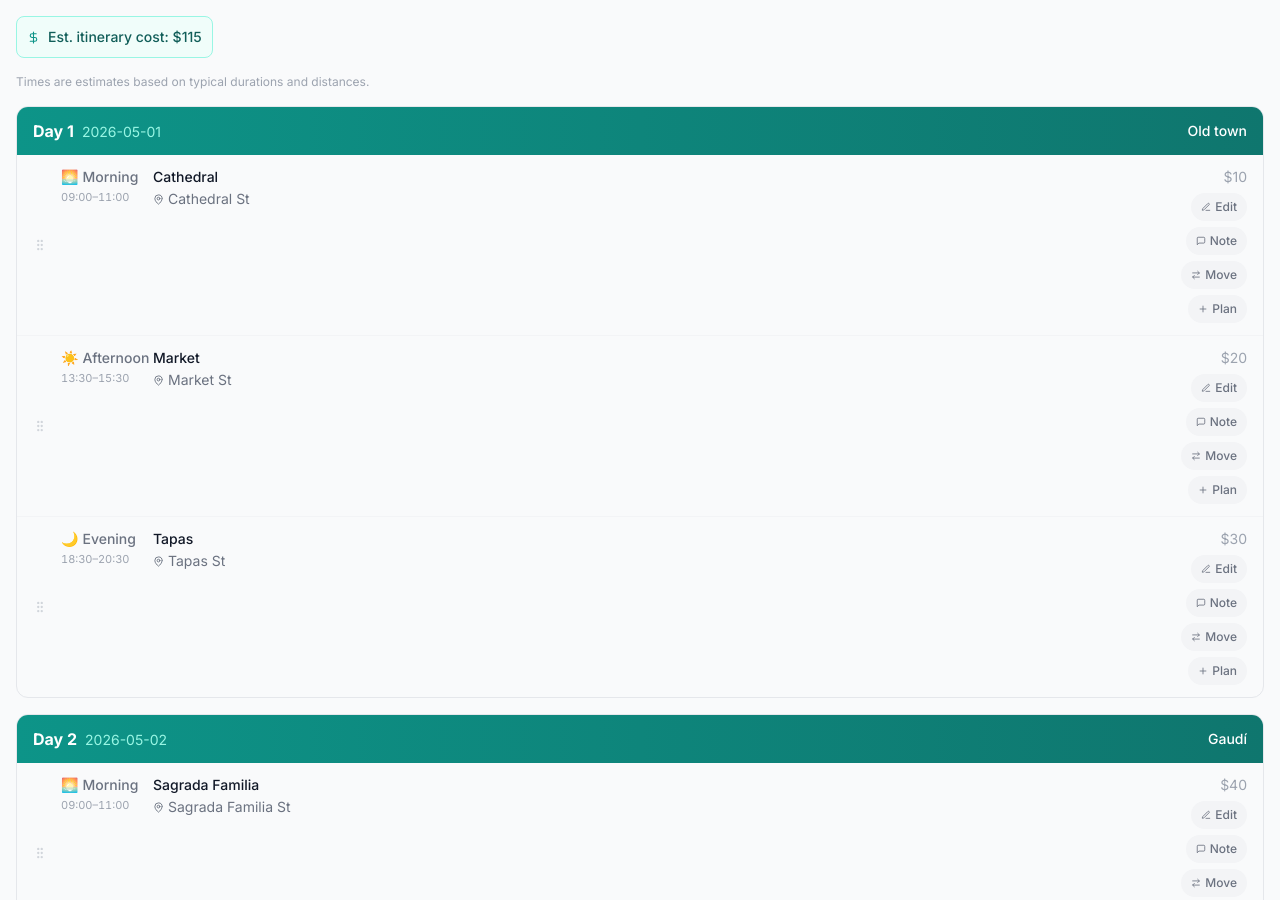
Test: ItinerarySection › exposes day headings as labelled groups, a labelled Move button and a group toolbar
Click the 2nd button "Move": [1214, 456] box [1181,442,1247,470]
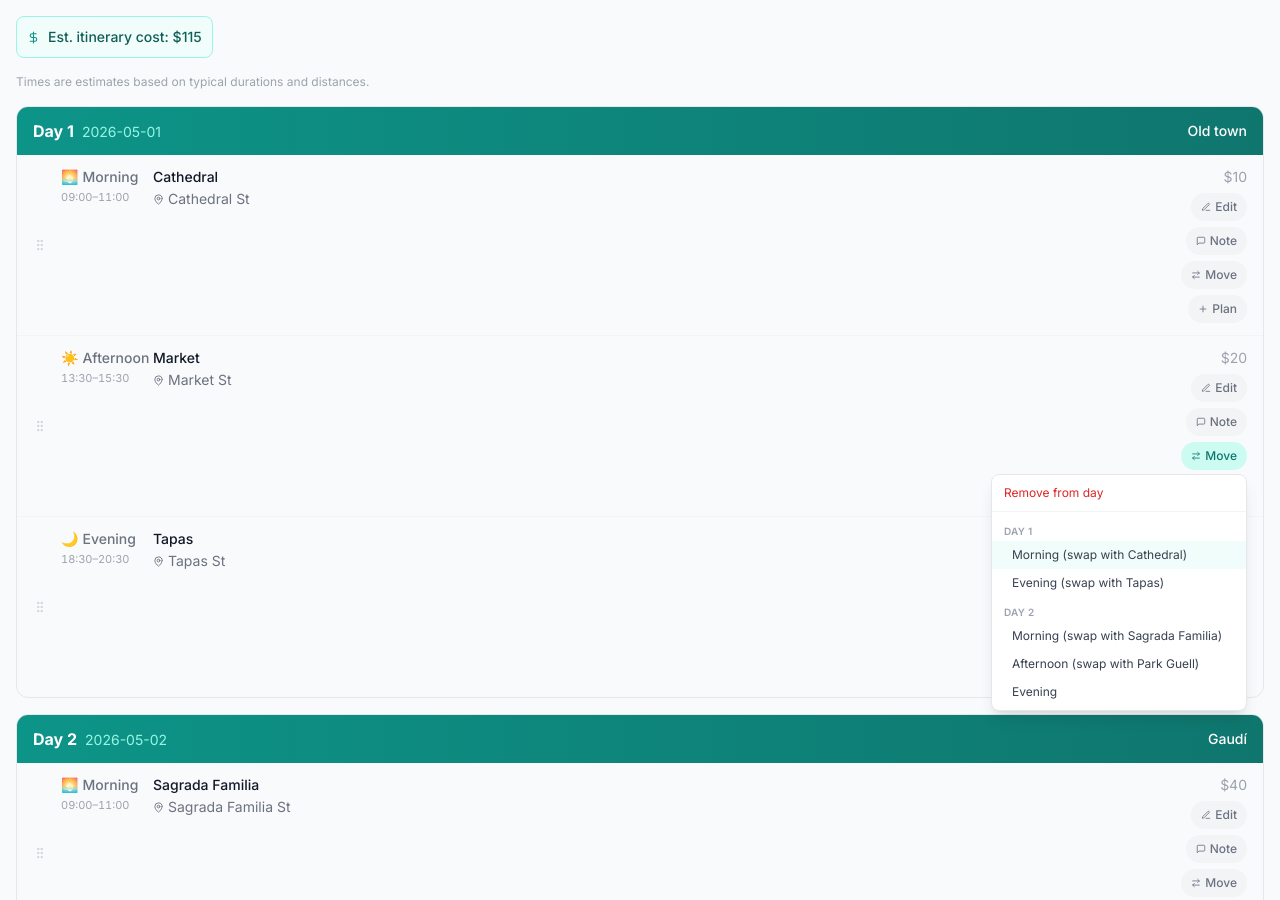
Expected: the menu item "Morning (swap with Cathedral)" is shown, [992,541,1246,569]
Expected: the menu item "Morning (swap with Sagrada Familia)" is shown, [992,622,1246,650]
Click the menu item "Remove from day": [1119, 493] box [992,479,1246,507]
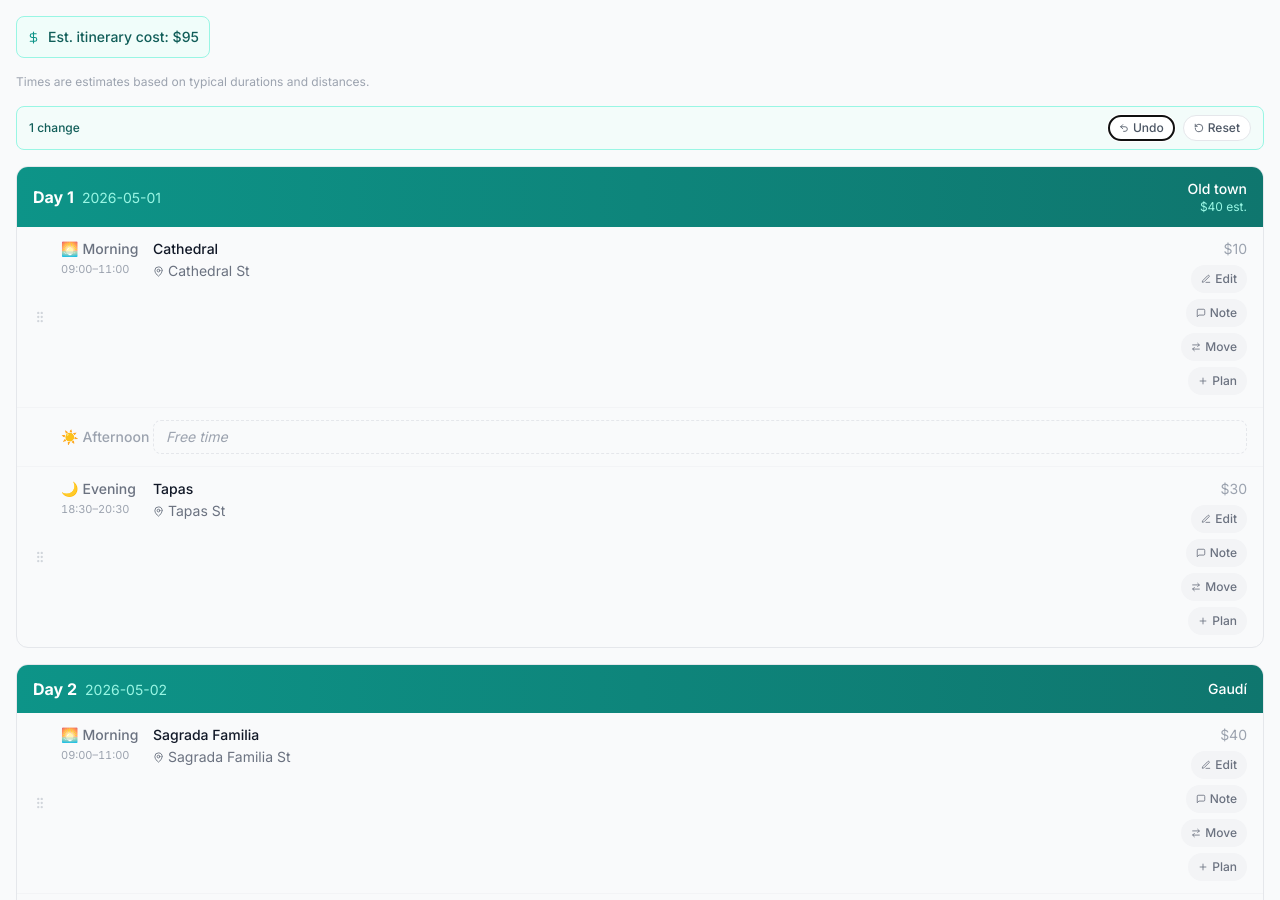
Expected: the element named "Itinerary changes" is shown, [16,106,1264,150]
